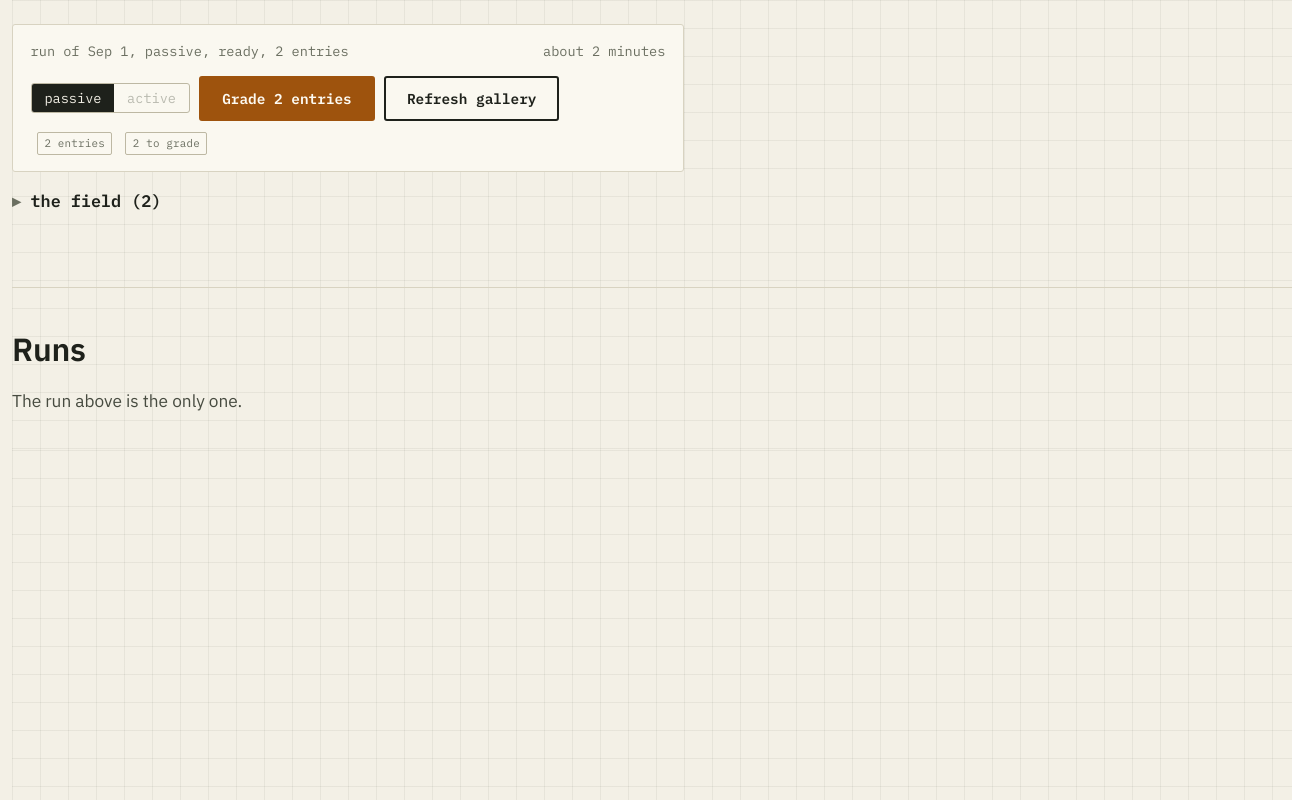
Test case: the ready run's controls › reports the server's own queued count rather than the button's
Click the button "Grade 2 entries".
click(287, 98)  # box [199,76,374,121]
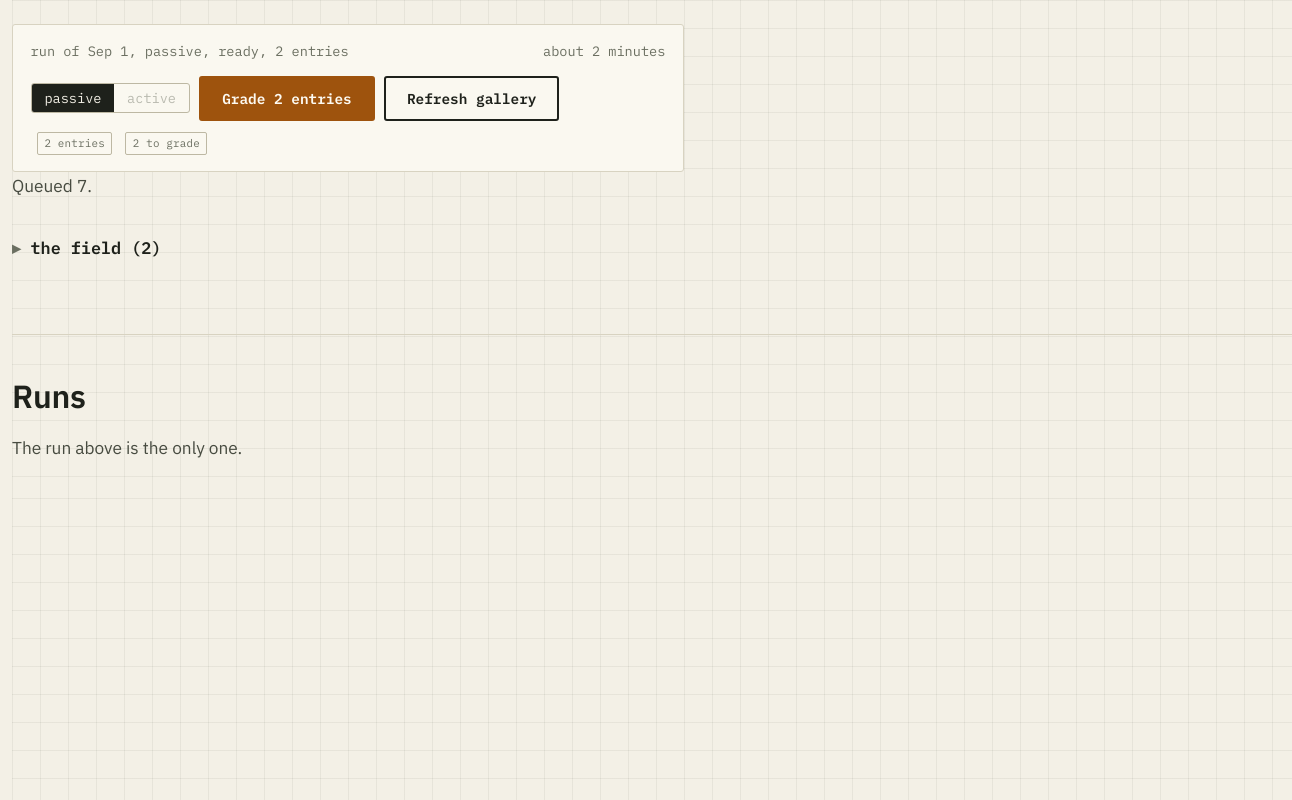
Check: the text "Queued 7." is shown, box [12,174,92,197]
